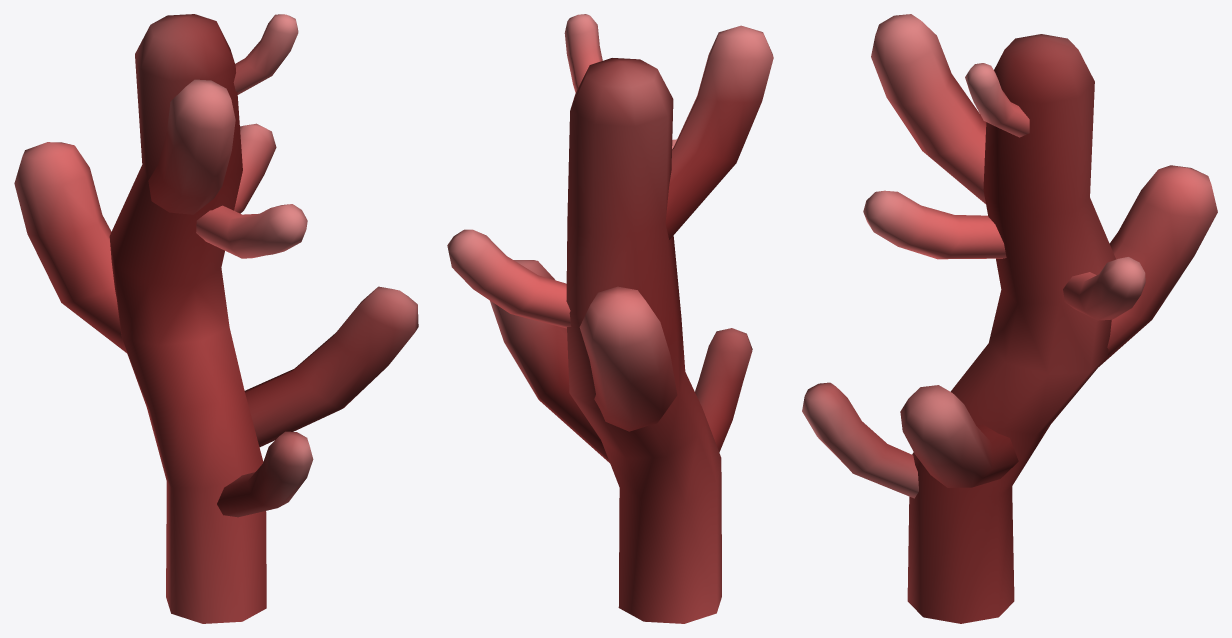
File: SM_Coral01.obj
3 views of the same model, side by side, from view 1: azimuth 30°, elevation 25°; view 2: azimuth 150°, elevation 25°; view 3: azimuth 270°, elevation 25° (orthographic). The views are drawn at different scales.
Parts seen in each view (by area): view 1: SM_Coral01; view 2: SM_Coral01; view 3: SM_Coral01.
Part boxes in pixels (x1,y1,x2,y2): SM_Coral01: (14, 14, 418, 623); SM_Coral01: (447, 14, 773, 623); SM_Coral01: (802, 14, 1217, 623).
Size of the model in its own units: 0.0345 by 0.0674 by 0.0442.
